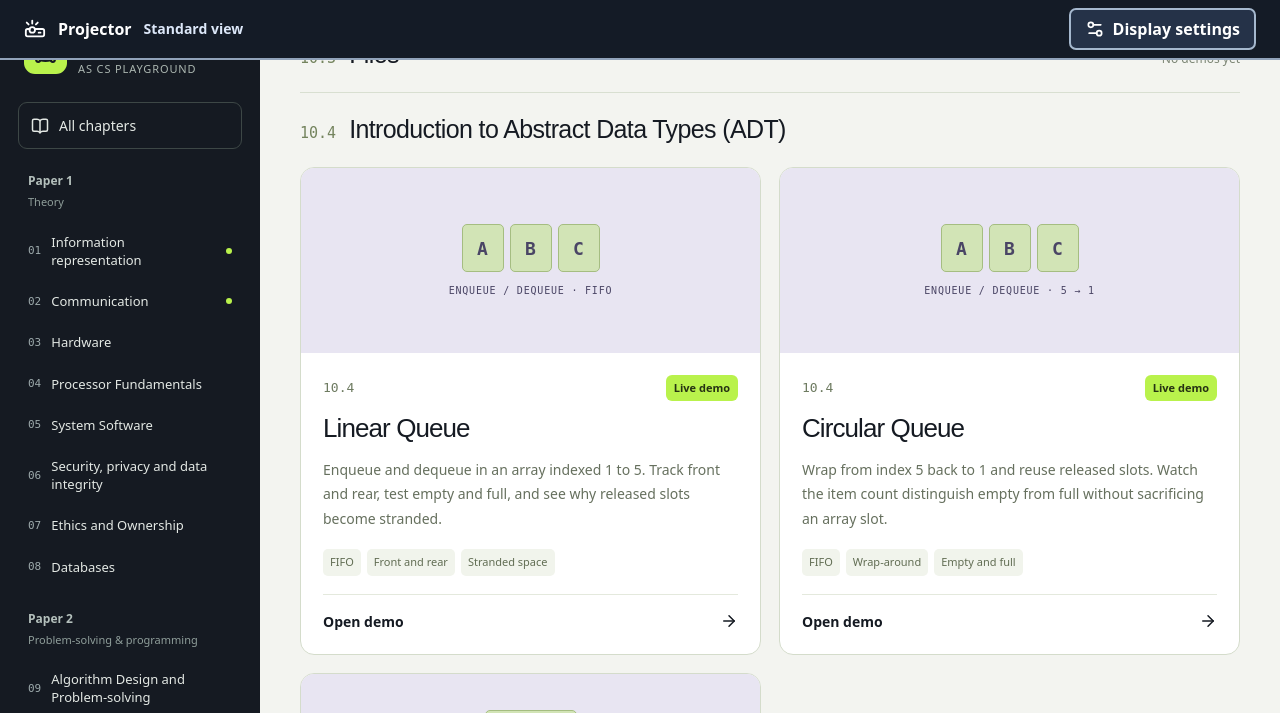
Test: queue and stack teaching pages › launches Linear Queue from section 10.4 with 1-based labels
(page scrolled)
Click the link with aria-label "Open Linear Queue". click: click(530, 411)
box: [300,167,761,654]
(page scrolled)
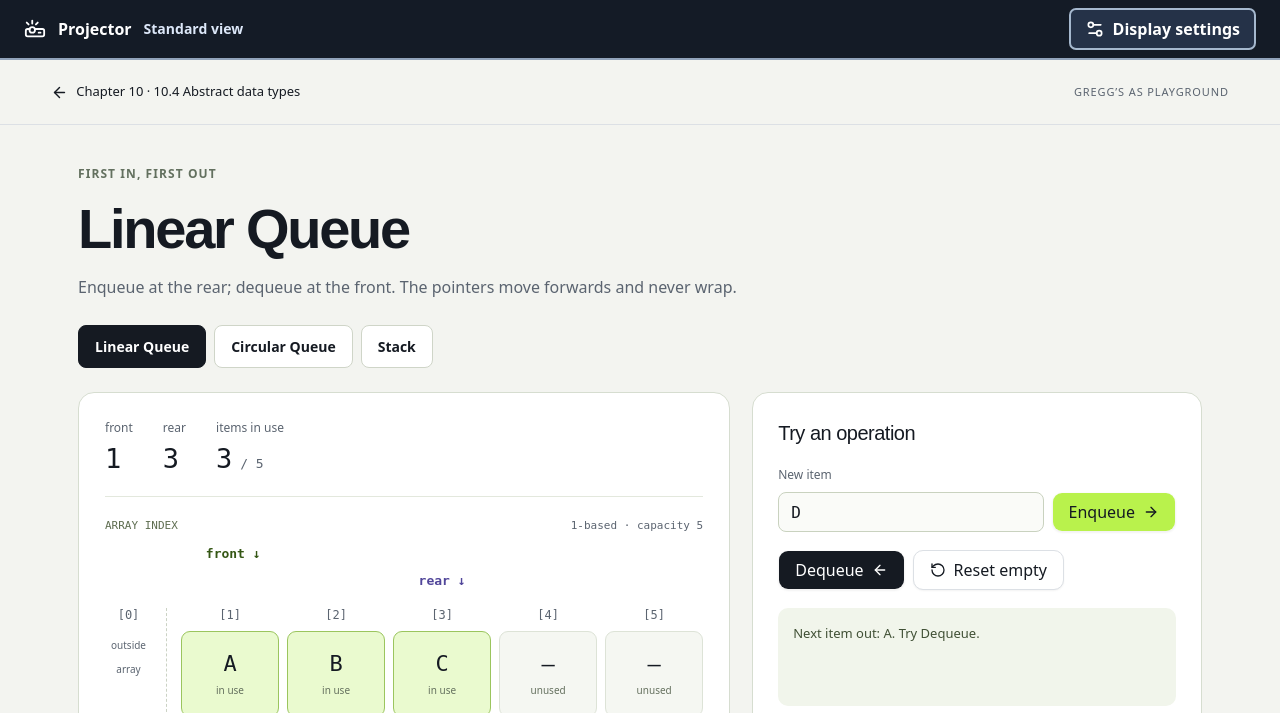
Expected: the heading "Linear Queue" is shown, [78,197,409,260]
Expected: the text "[1]" is shown, [219,608,241,622]
Expected: the text "[0]" is shown, [118,608,139,622]
